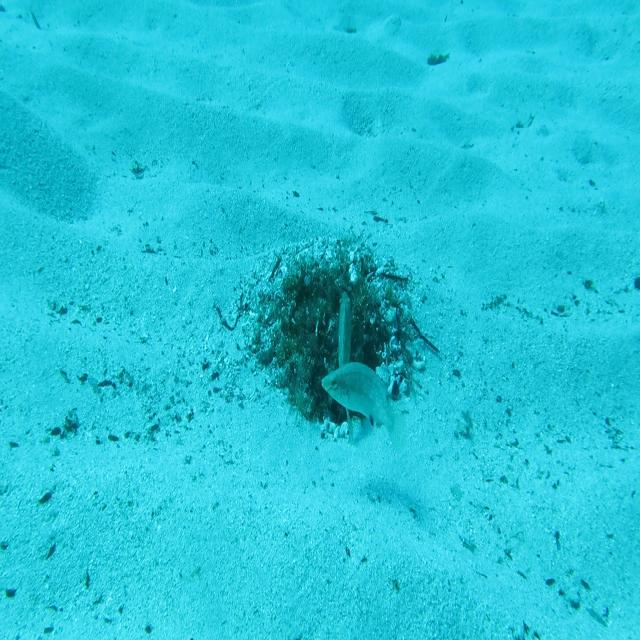FAN: (330, 286, 359, 448)
core_nest: (306, 280, 347, 311)
female: (320, 359, 408, 461)
nest: (230, 218, 428, 449)
vegetation: (427, 49, 450, 68), (633, 274, 640, 292)
